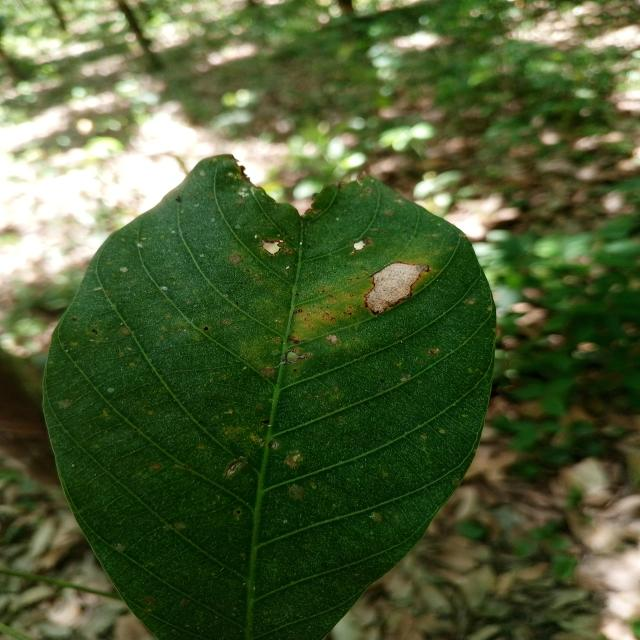Colletotrichum: (203, 326, 209, 331), (330, 318, 334, 322), (350, 294, 353, 297), (298, 310, 302, 312), (296, 311, 299, 313), (326, 313, 329, 315), (344, 312, 346, 314)
Leaf-Blight: (364, 263, 429, 314)
